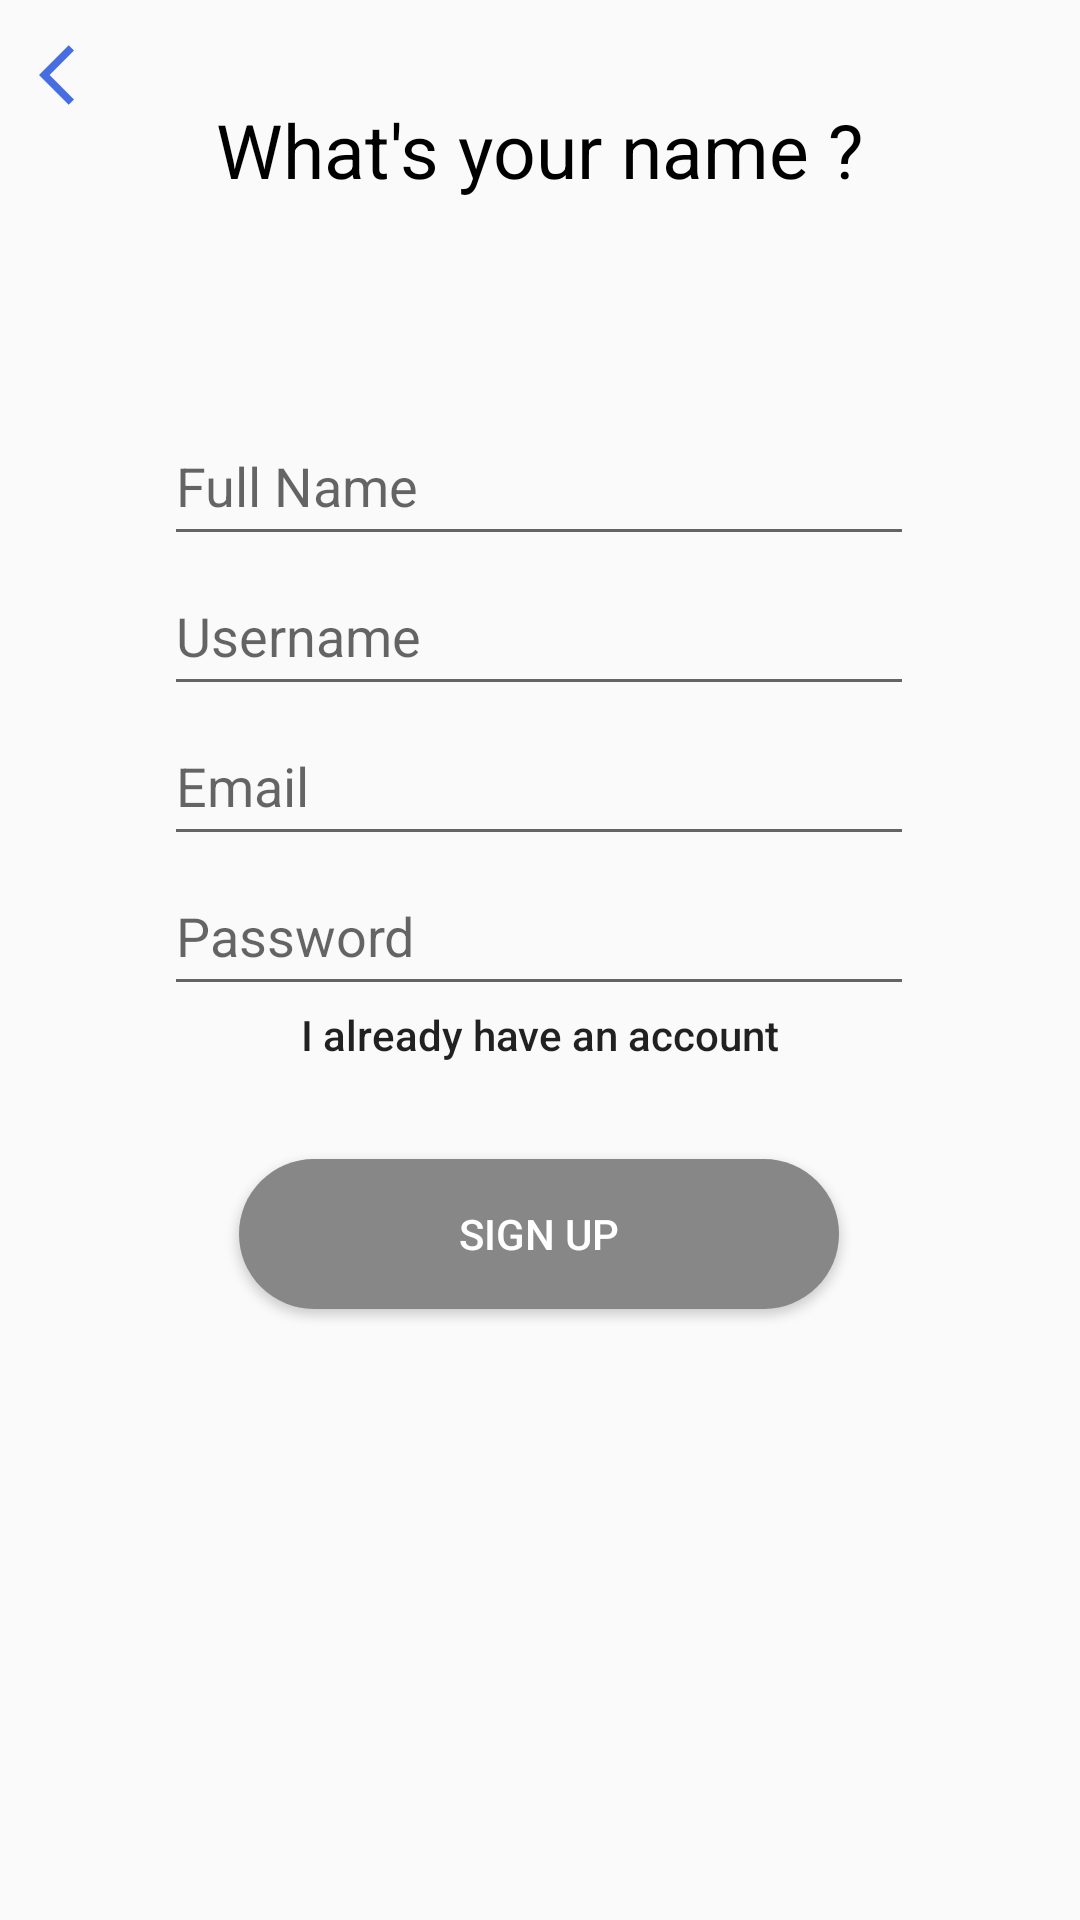

Locate icon controls on the screen. Image size 1080w x 1920h, boxes as [x1,y1,x2,y2].
arrow back: [39,45,74,105]
